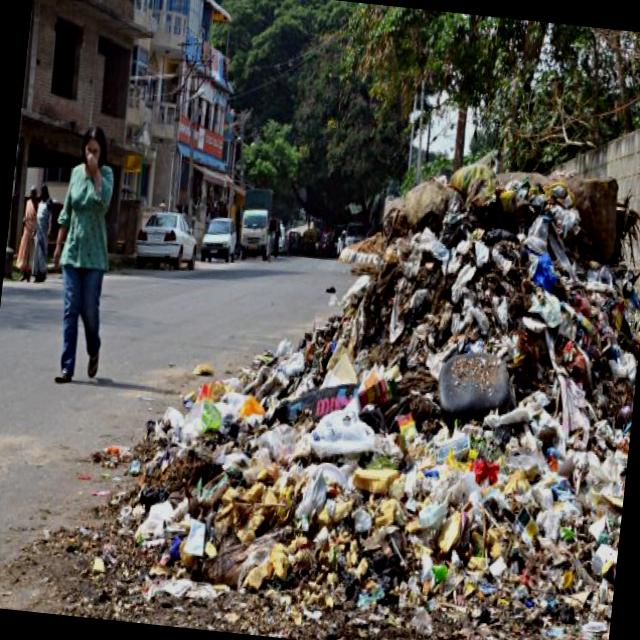garbage: (233, 141, 640, 640)
